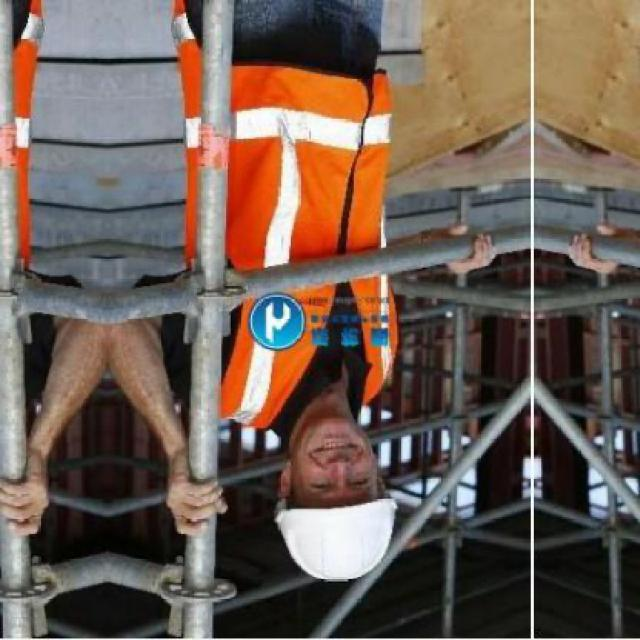con casco: (262, 340, 407, 605)
